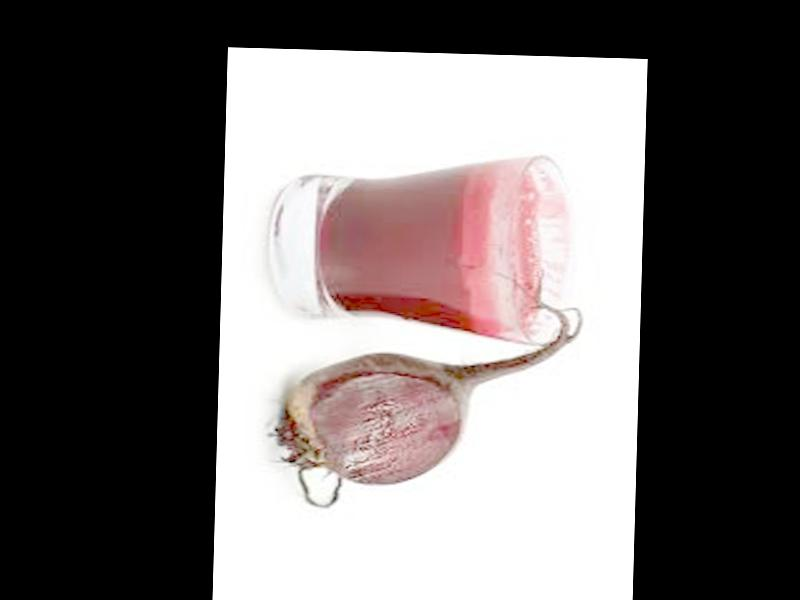Beet: (269, 271, 583, 513)
